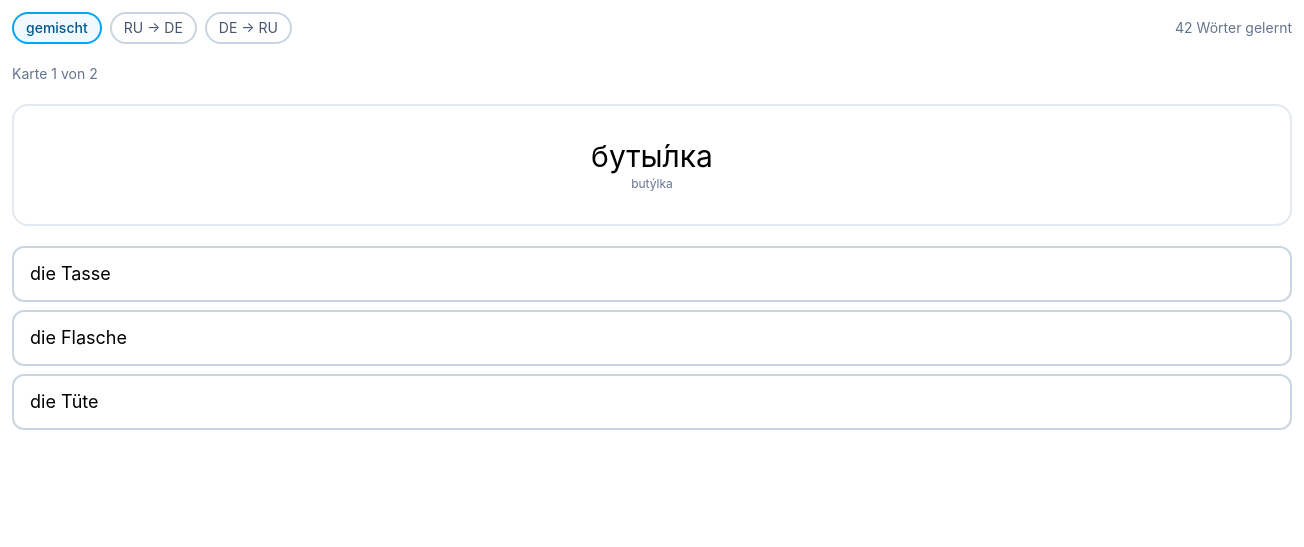
it: FlashcardsView › klingt bei einer richtigen Karte
The image size is (1304, 547).
Click the button "die Flasche": coordinates (78, 337) [12,310,1292,366]
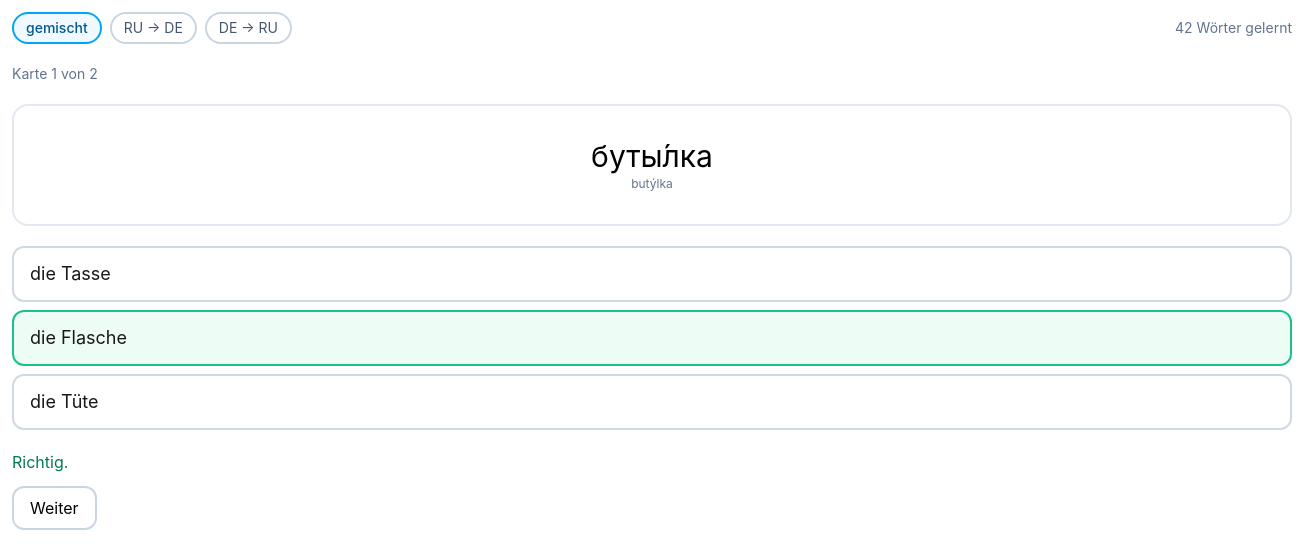
Check: the text "Richtig." is shown, box [12,452,68,472]
